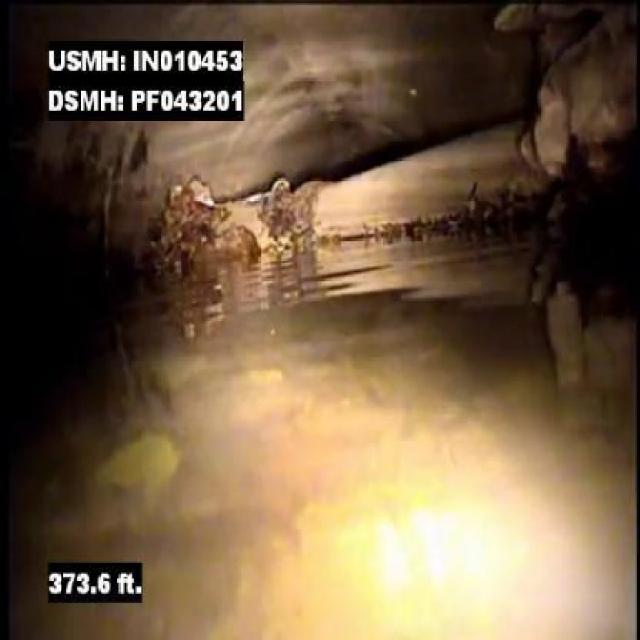Debris: (489, 2, 638, 206)
Utility intrusion: (131, 123, 520, 280)
